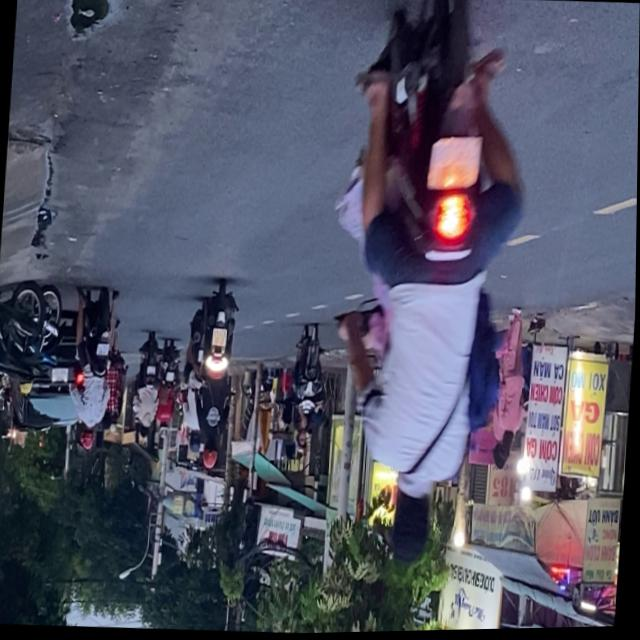helmet: (202, 441, 220, 470), (82, 426, 97, 451)
licenseplate: (314, 0, 536, 578), (179, 280, 243, 473), (66, 285, 123, 453)
motorcyclist: (386, 482, 437, 569)
nohelmet: (428, 137, 482, 192), (212, 329, 227, 349), (97, 343, 110, 357)
